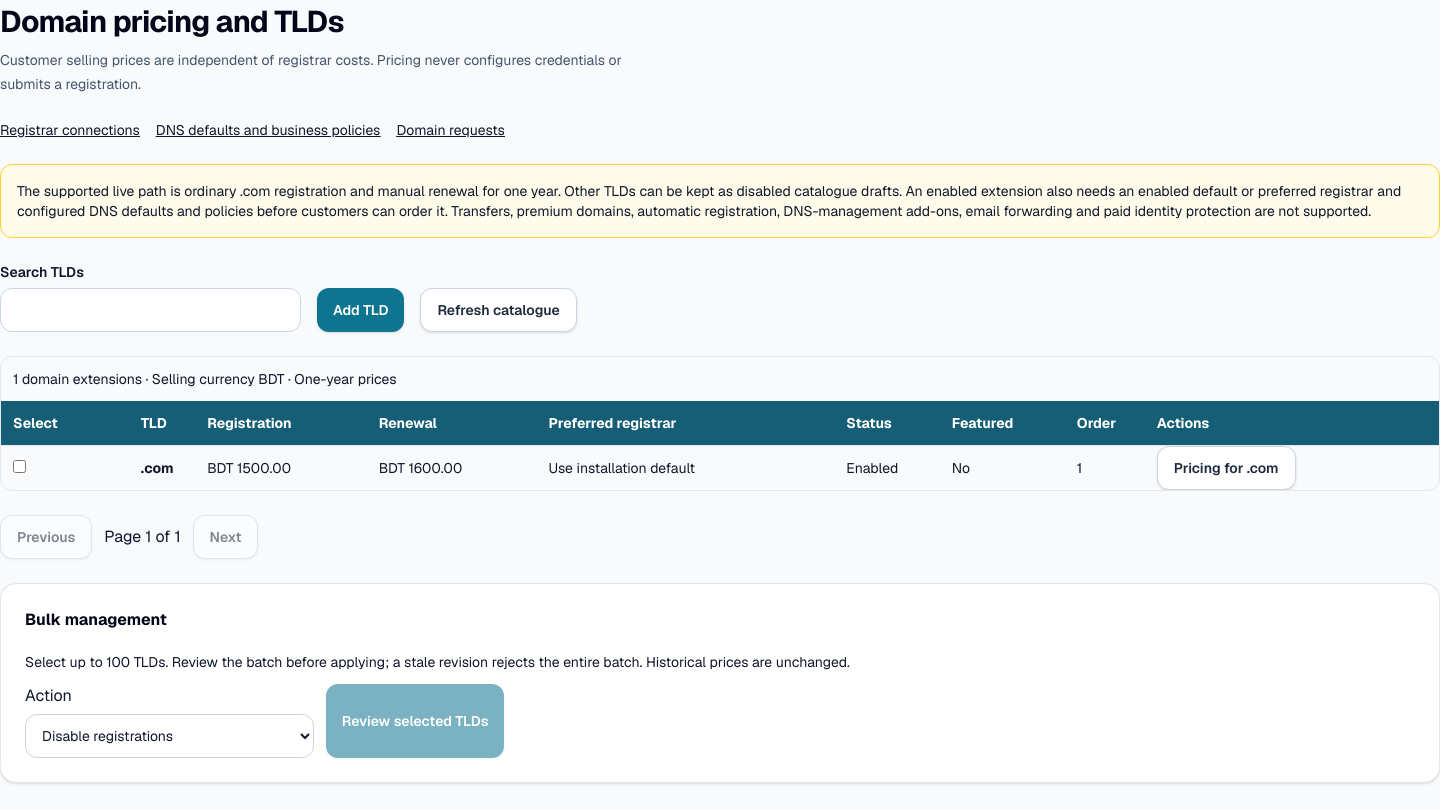
Scenario: TLD catalogue › reviews a bounded bulk operation and sends exactly one write after confirmation
What coordinates should you click on to do the following:
click the checkbox named "Select .com"
I would click on:
 (20, 466)
Its box is [13, 460, 26, 473].
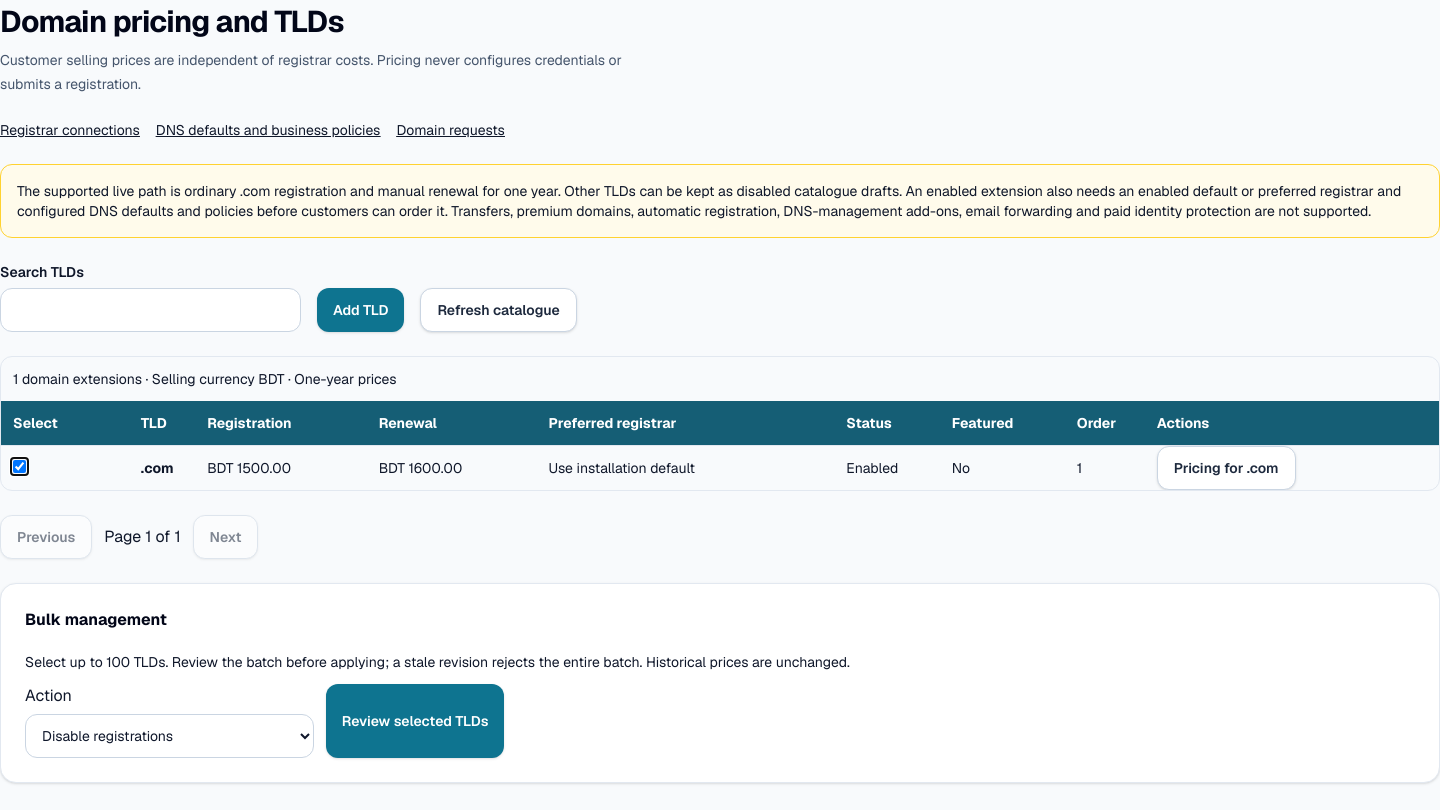
What coordinates should you click on to do the following:
click the button "Review selected TLDs"
I would click on:
 (415, 721)
Its box is [326, 684, 504, 758].
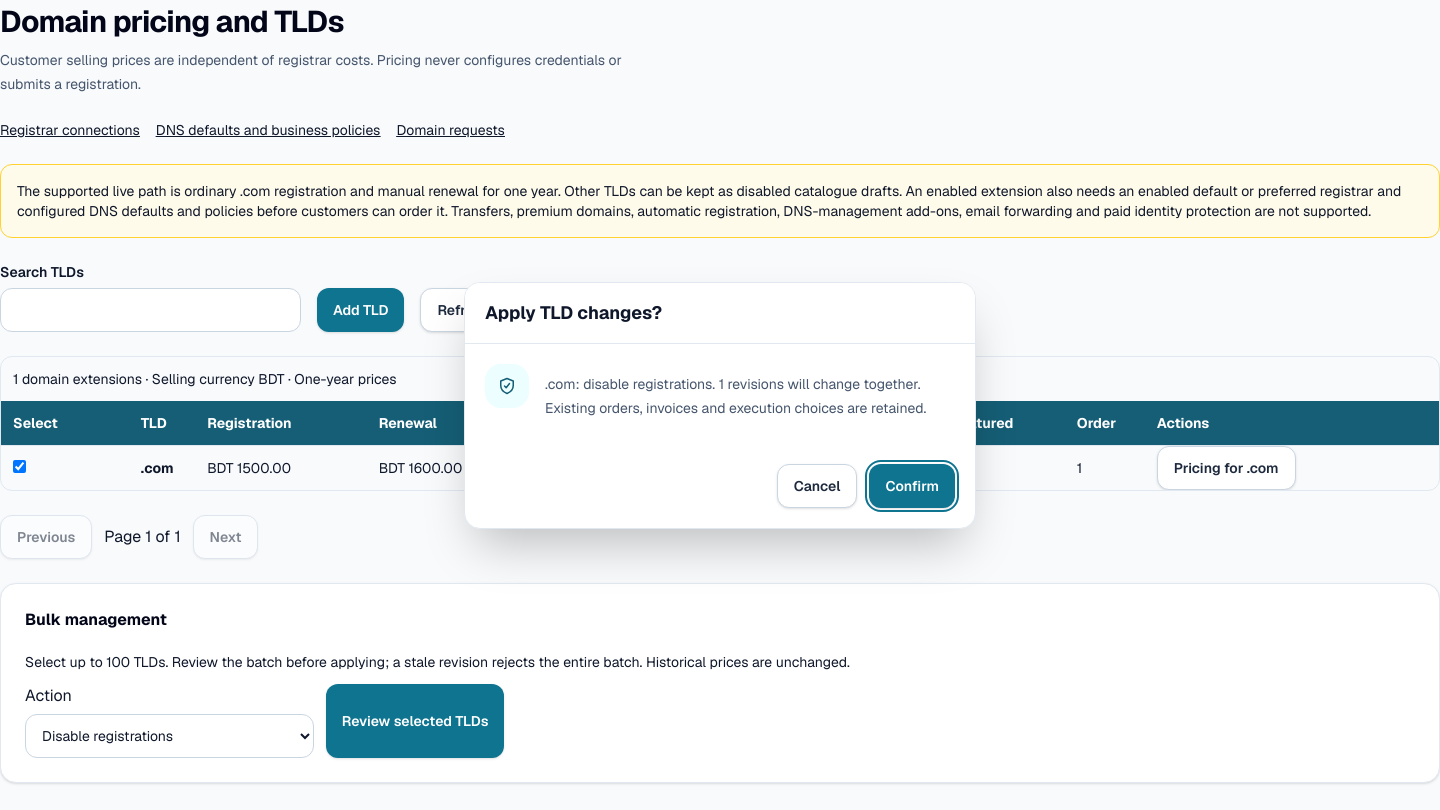
What coordinates should you click on to do the following:
click the button "Confirm"
I would click on:
 (912, 486)
Its box is [870, 464, 955, 508].
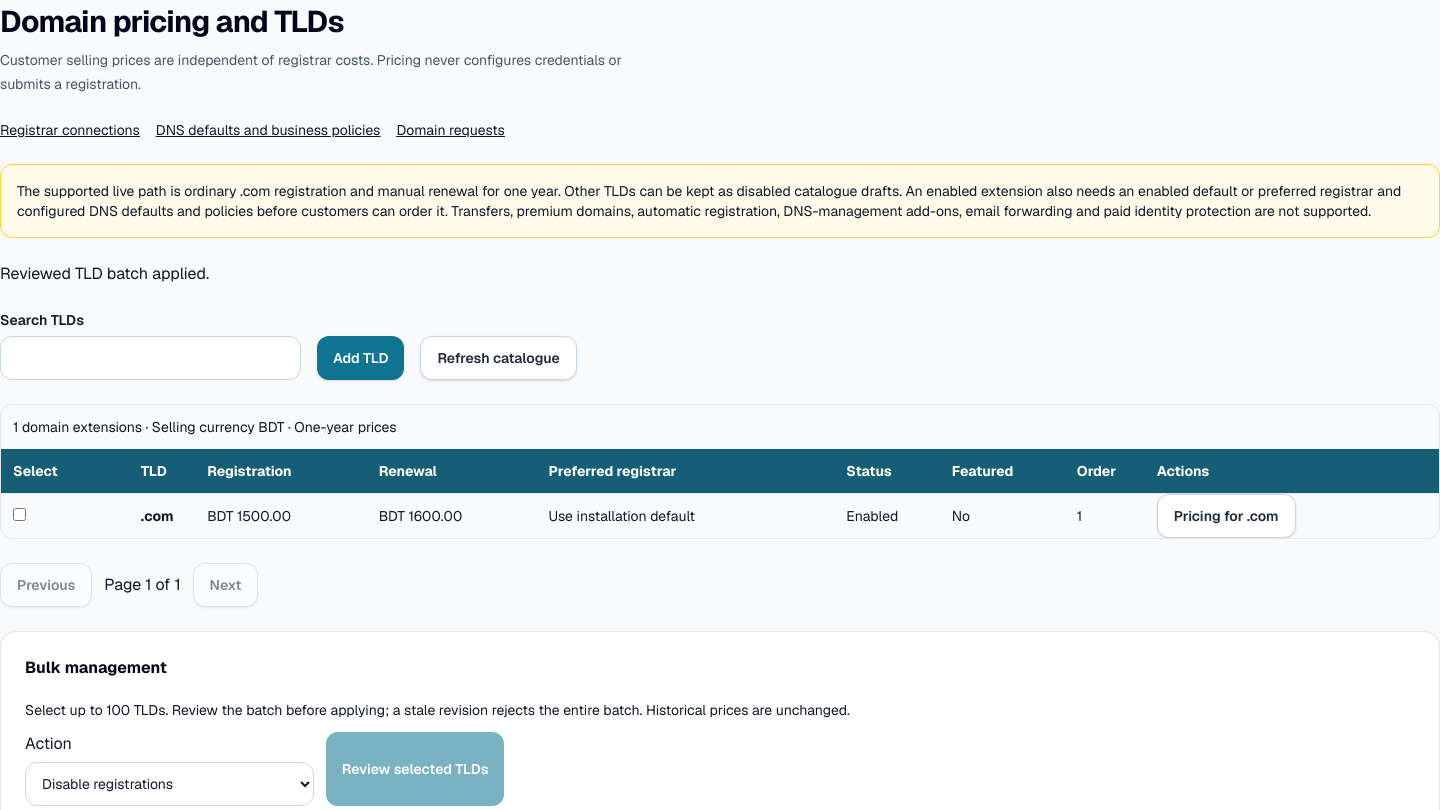
Now the text "Reviewed TLD batch applied." is shown, box [0, 263, 209, 284]
